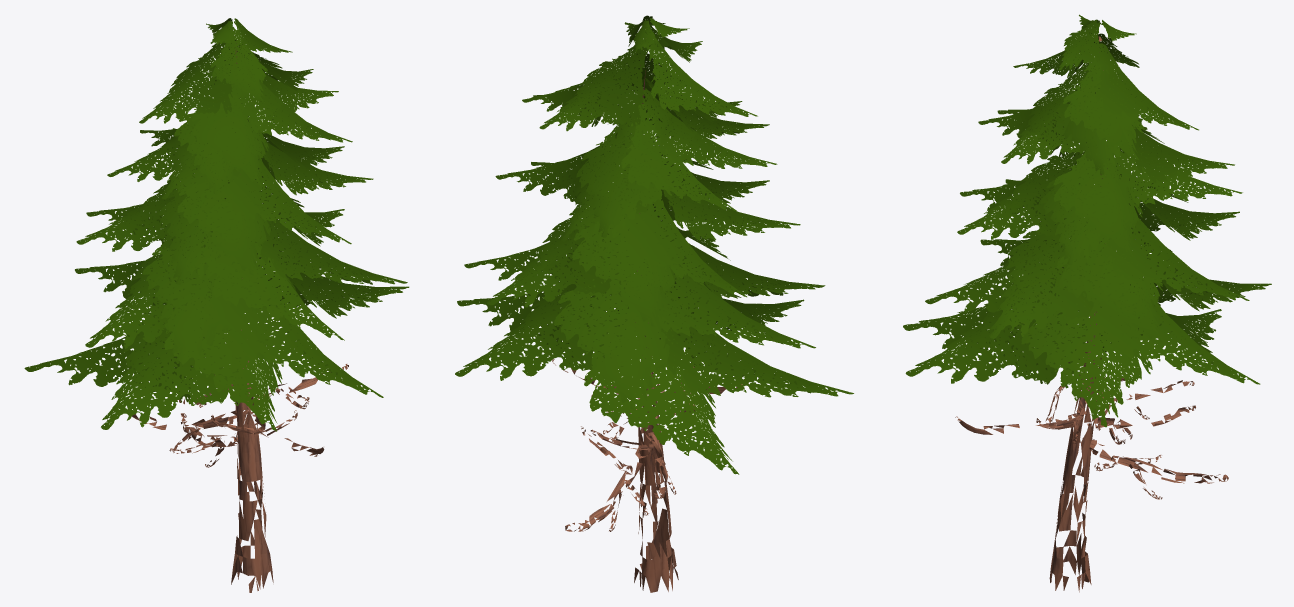
Rendered from Pine_1.gltf.
3 views of the same model, side by side, from view 1: azimuth 30°, elevation 25°; view 2: azimuth 150°, elevation 25°; view 3: azimuth 270°, elevation 25° (orthographic). The views are drawn at different scales.
Visible parts, largest first — view 1: Pine_1; view 2: Pine_1; view 3: Pine_1.
Part boxes in pixels (x1=…): Pine_1: x1=24, y1=18, x2=409, y2=592; Pine_1: x1=455, y1=15, x2=853, y2=592; Pine_1: x1=903, y1=14, x2=1271, y2=592.
Size of the model in its own units: 4.94 by 7.32 by 4.54.
2 materials, 2 textured.
